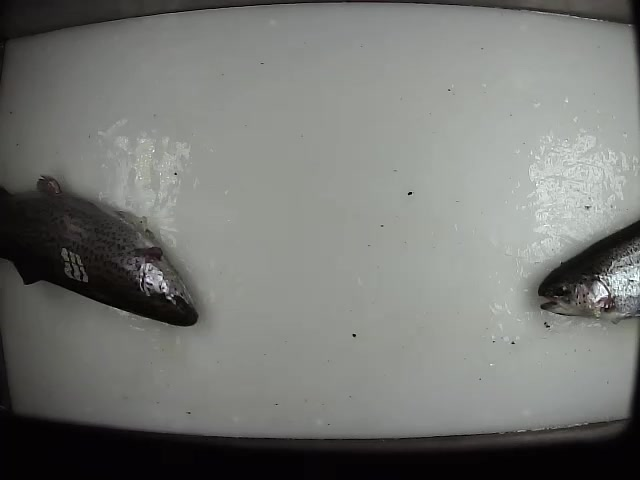fish: (1, 172, 200, 328), (535, 212, 640, 328)
